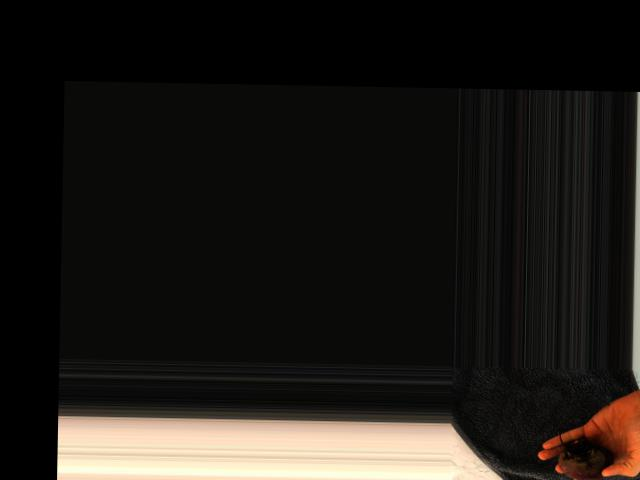beet: (558, 437, 614, 480)
